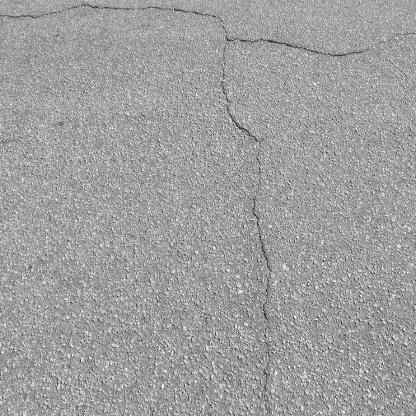Cracks: (0, 1, 416, 57), (218, 59, 277, 416)
